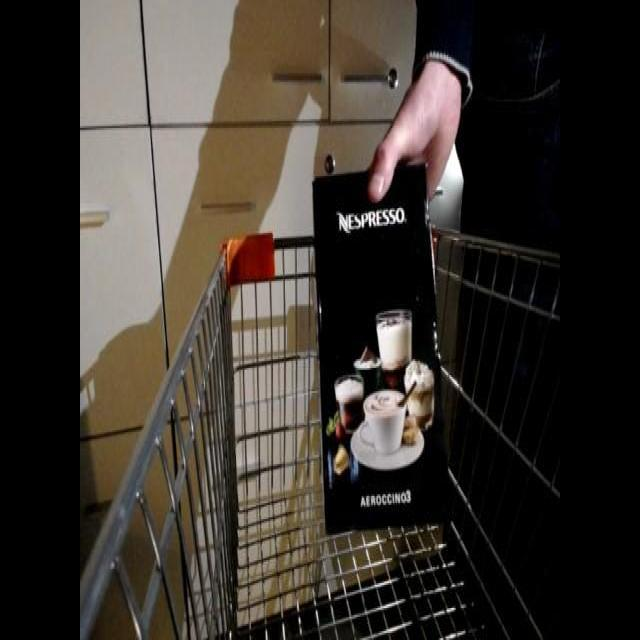Nespresso: (313, 137, 465, 540)
